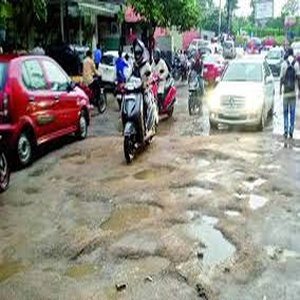pothole: (192, 213, 241, 276), (97, 200, 165, 229), (184, 148, 233, 168), (133, 161, 172, 181)
